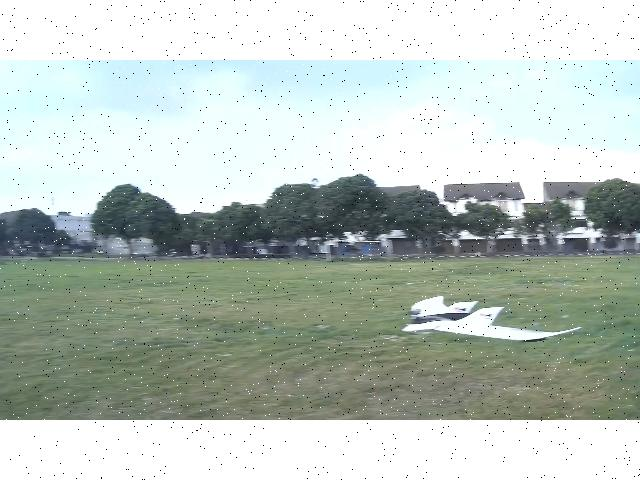Anti-Drone: (402, 296, 582, 342)
